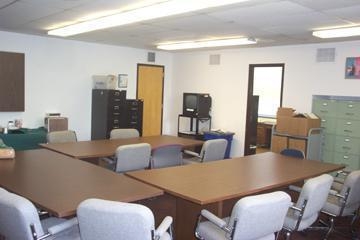Armario: (95, 90, 130, 142), (123, 99, 146, 137)
Electrodomestico: (179, 89, 211, 135)
Otro Obstaculo: (273, 107, 329, 162)
Puerta: (138, 64, 163, 135)
